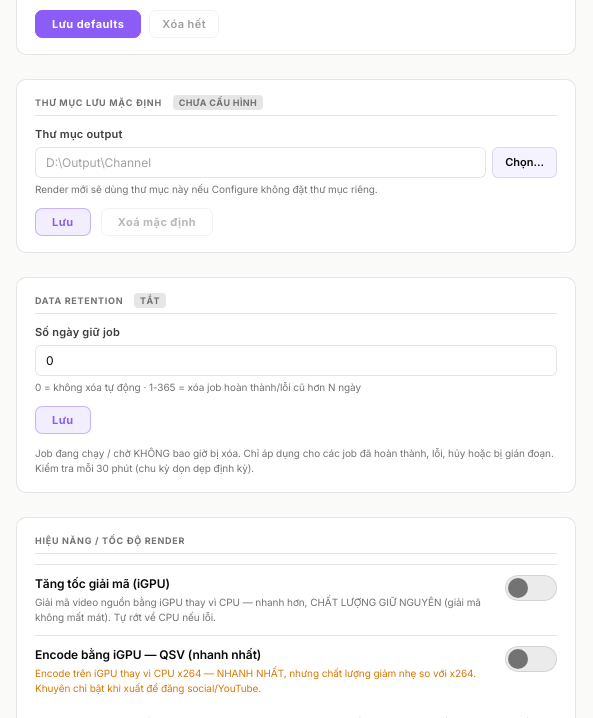
Test: SettingsScreen — Data Retention form › saves the edited value and surfaces the non-zero status message
(page scrolled)
// Clear and type 60.
Replace the text in the number field with test id "dr-job-retention-days" with "60" at [296, 360], box [35,344,557,376]
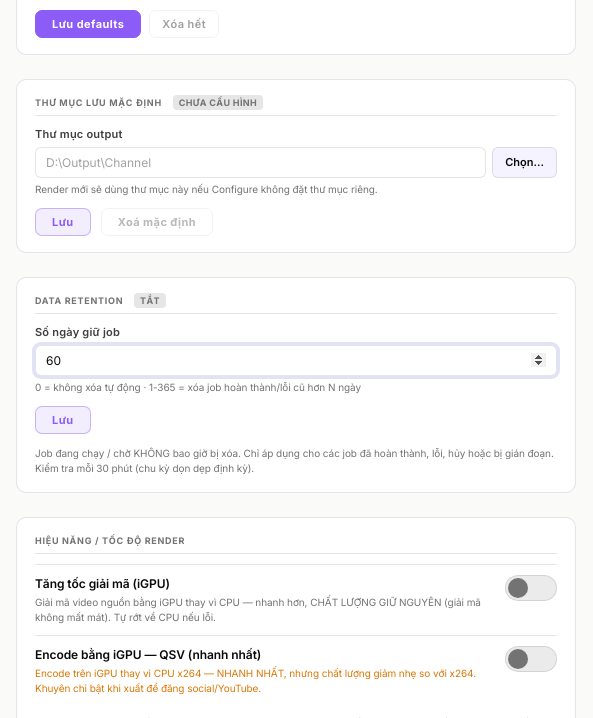
Click the button with test id "dr-save" at [63, 420], box [35,406,91,434]
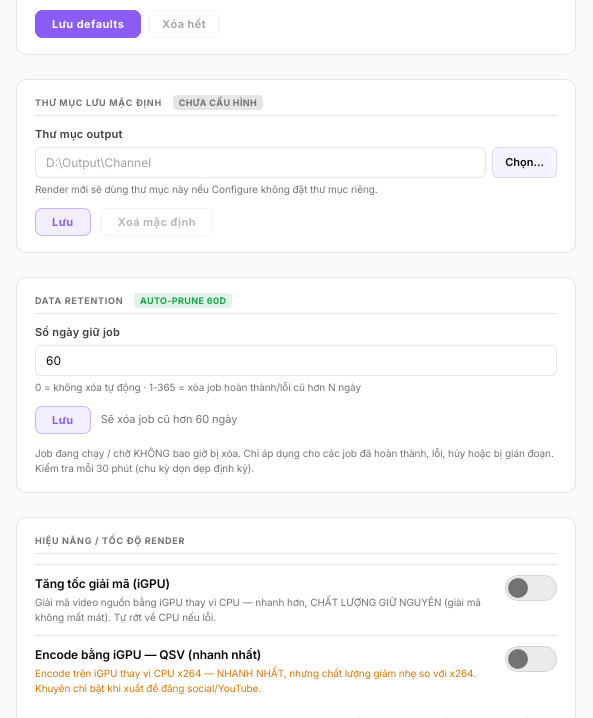
expect the text with test id "dr-status" shows "60 ngày": met, box [101,412,237,426]
